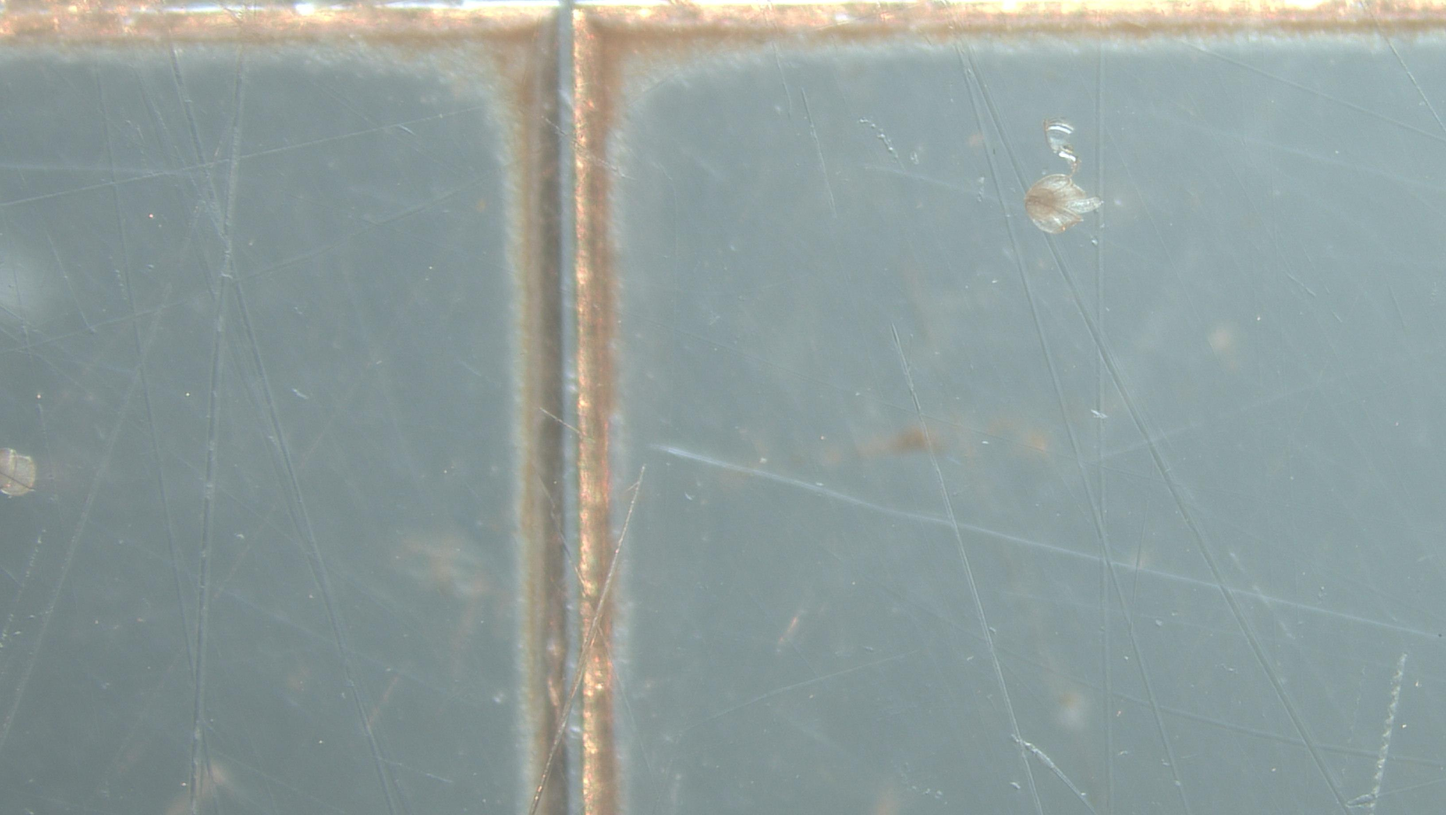dead: (0, 449, 36, 496)
live: (1025, 175, 1103, 234)
